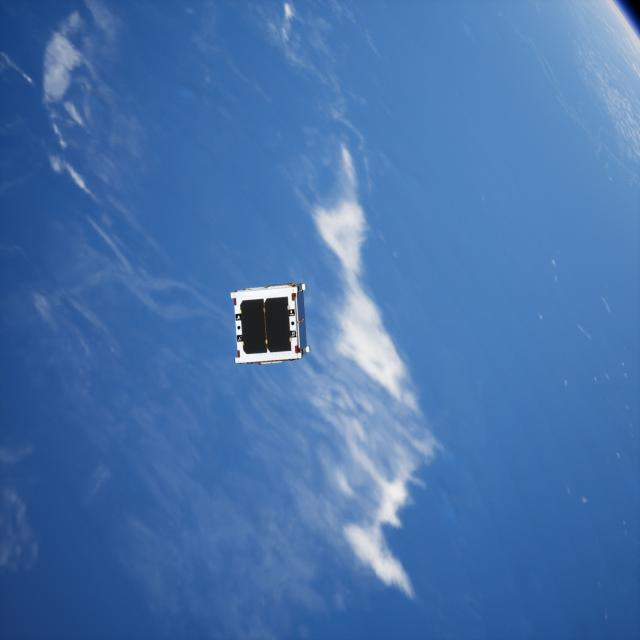satellite: (230, 280, 307, 370)
